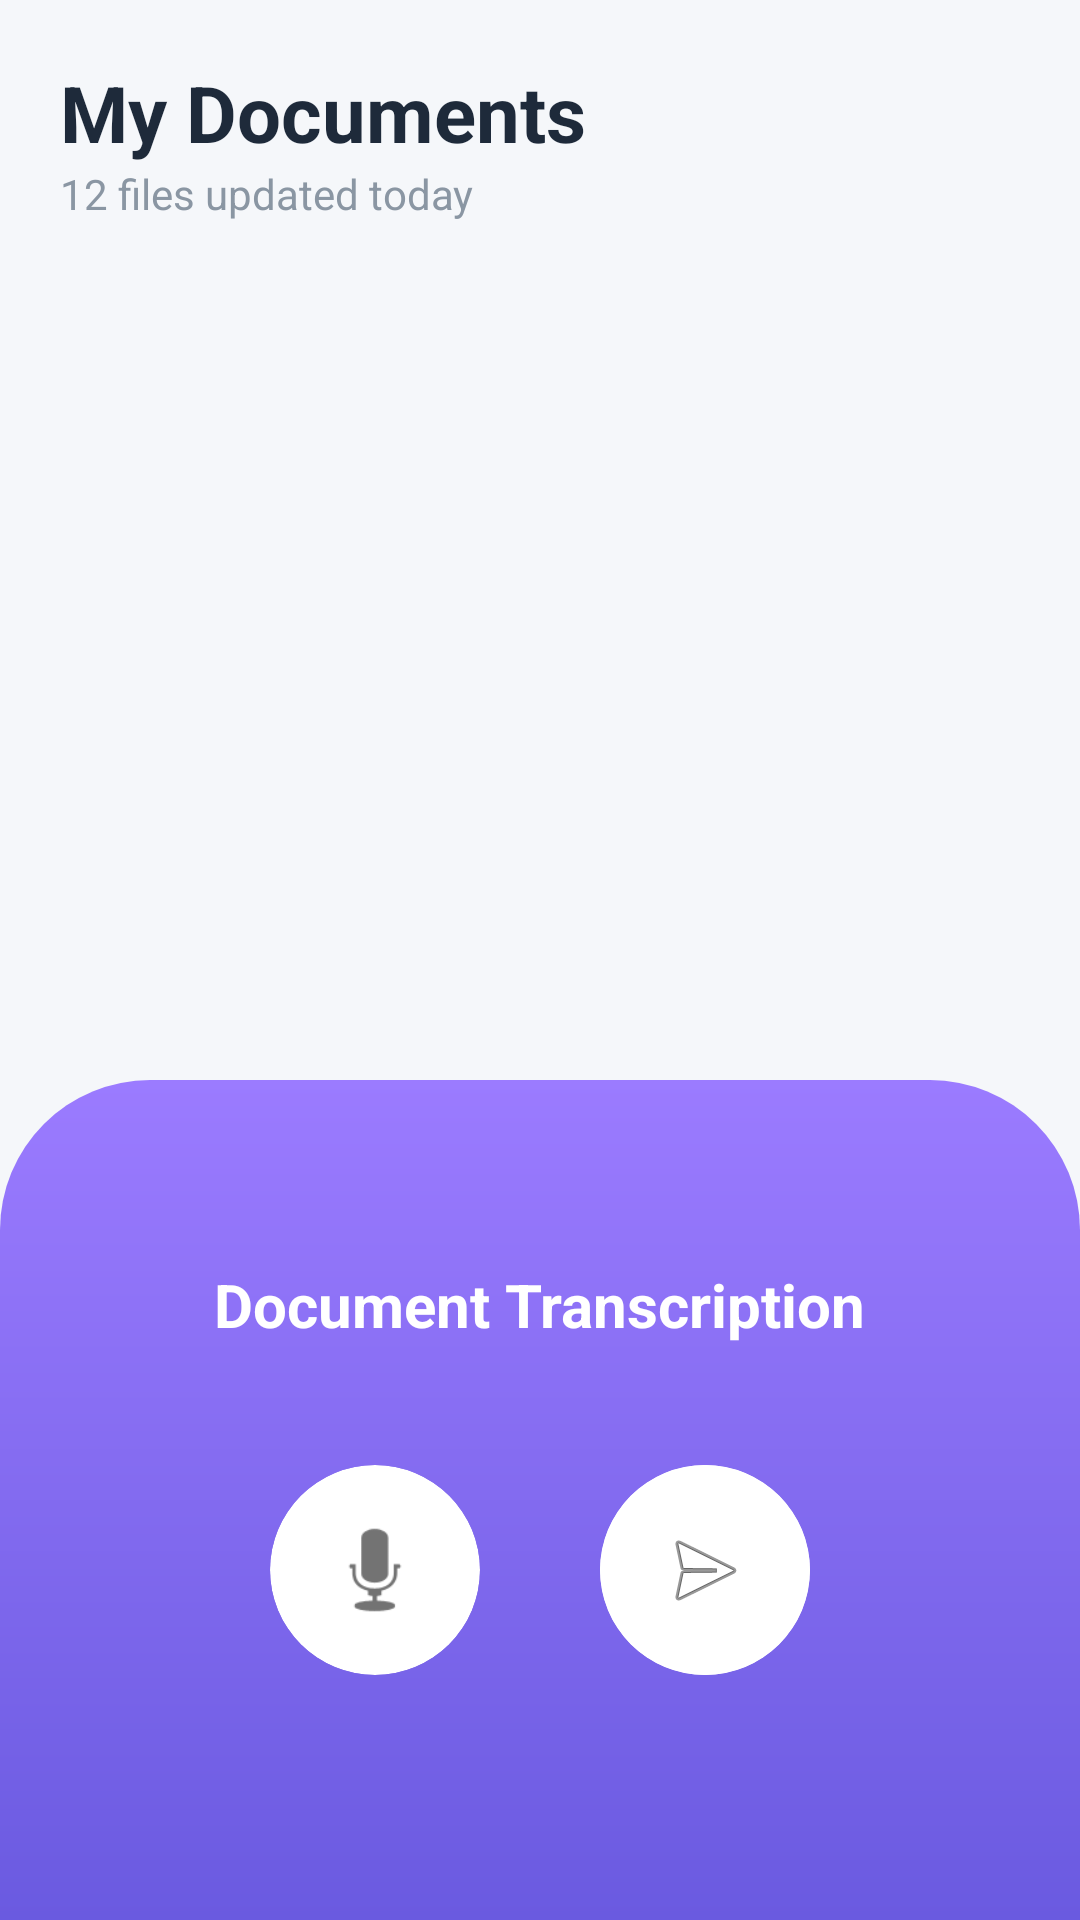

Where icons sit on this 1080×1920 app screen, as (x1, y1, x2, y2):
send: (600, 1465, 810, 1675)
speak now: (349, 1528, 401, 1612)
